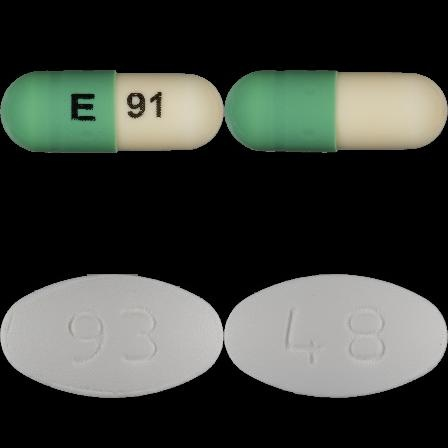10544-065: (0, 0, 224, 224)
